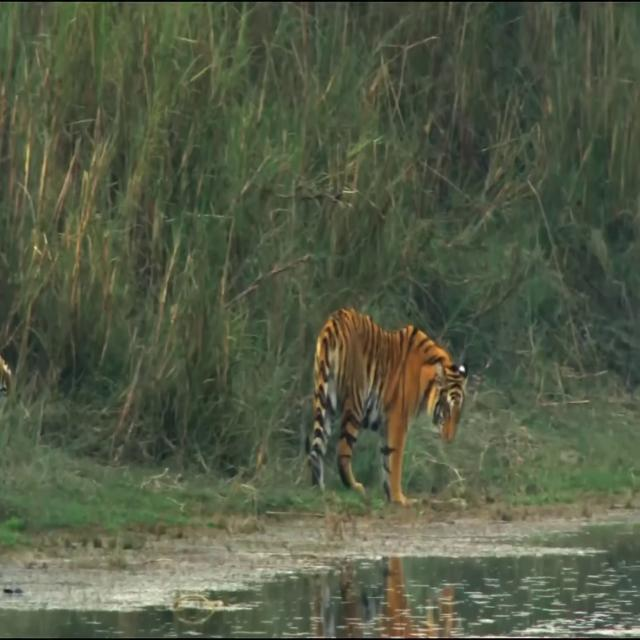tiger: (309, 307, 469, 507)
